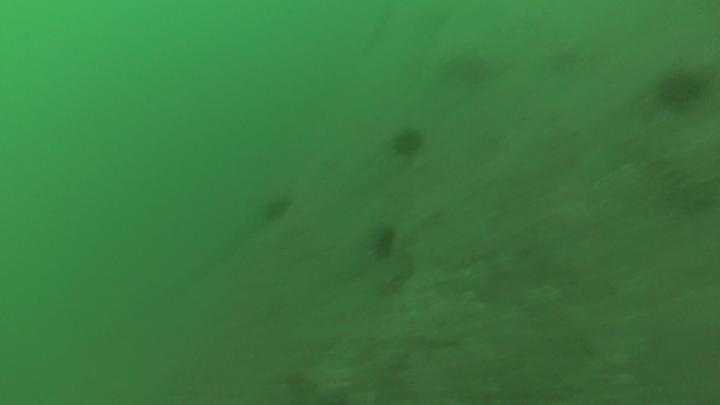echinus: (654, 65, 708, 113), (388, 124, 427, 162), (367, 221, 401, 263), (259, 192, 294, 225)
